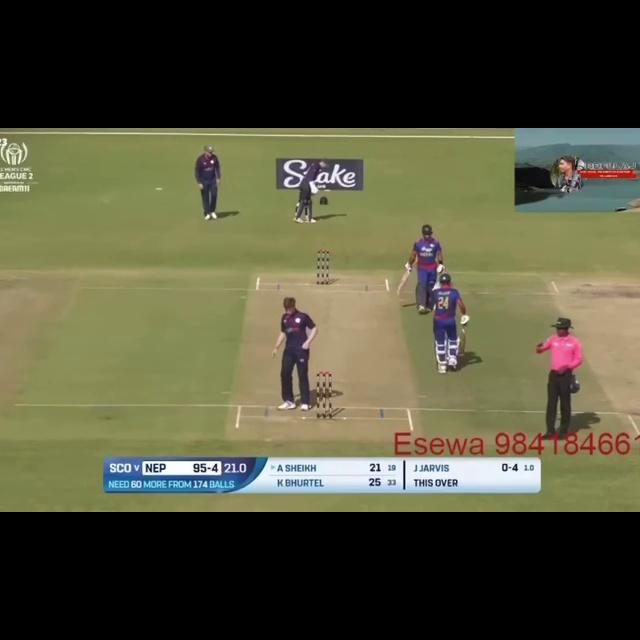umpire: (526, 313, 590, 441)
